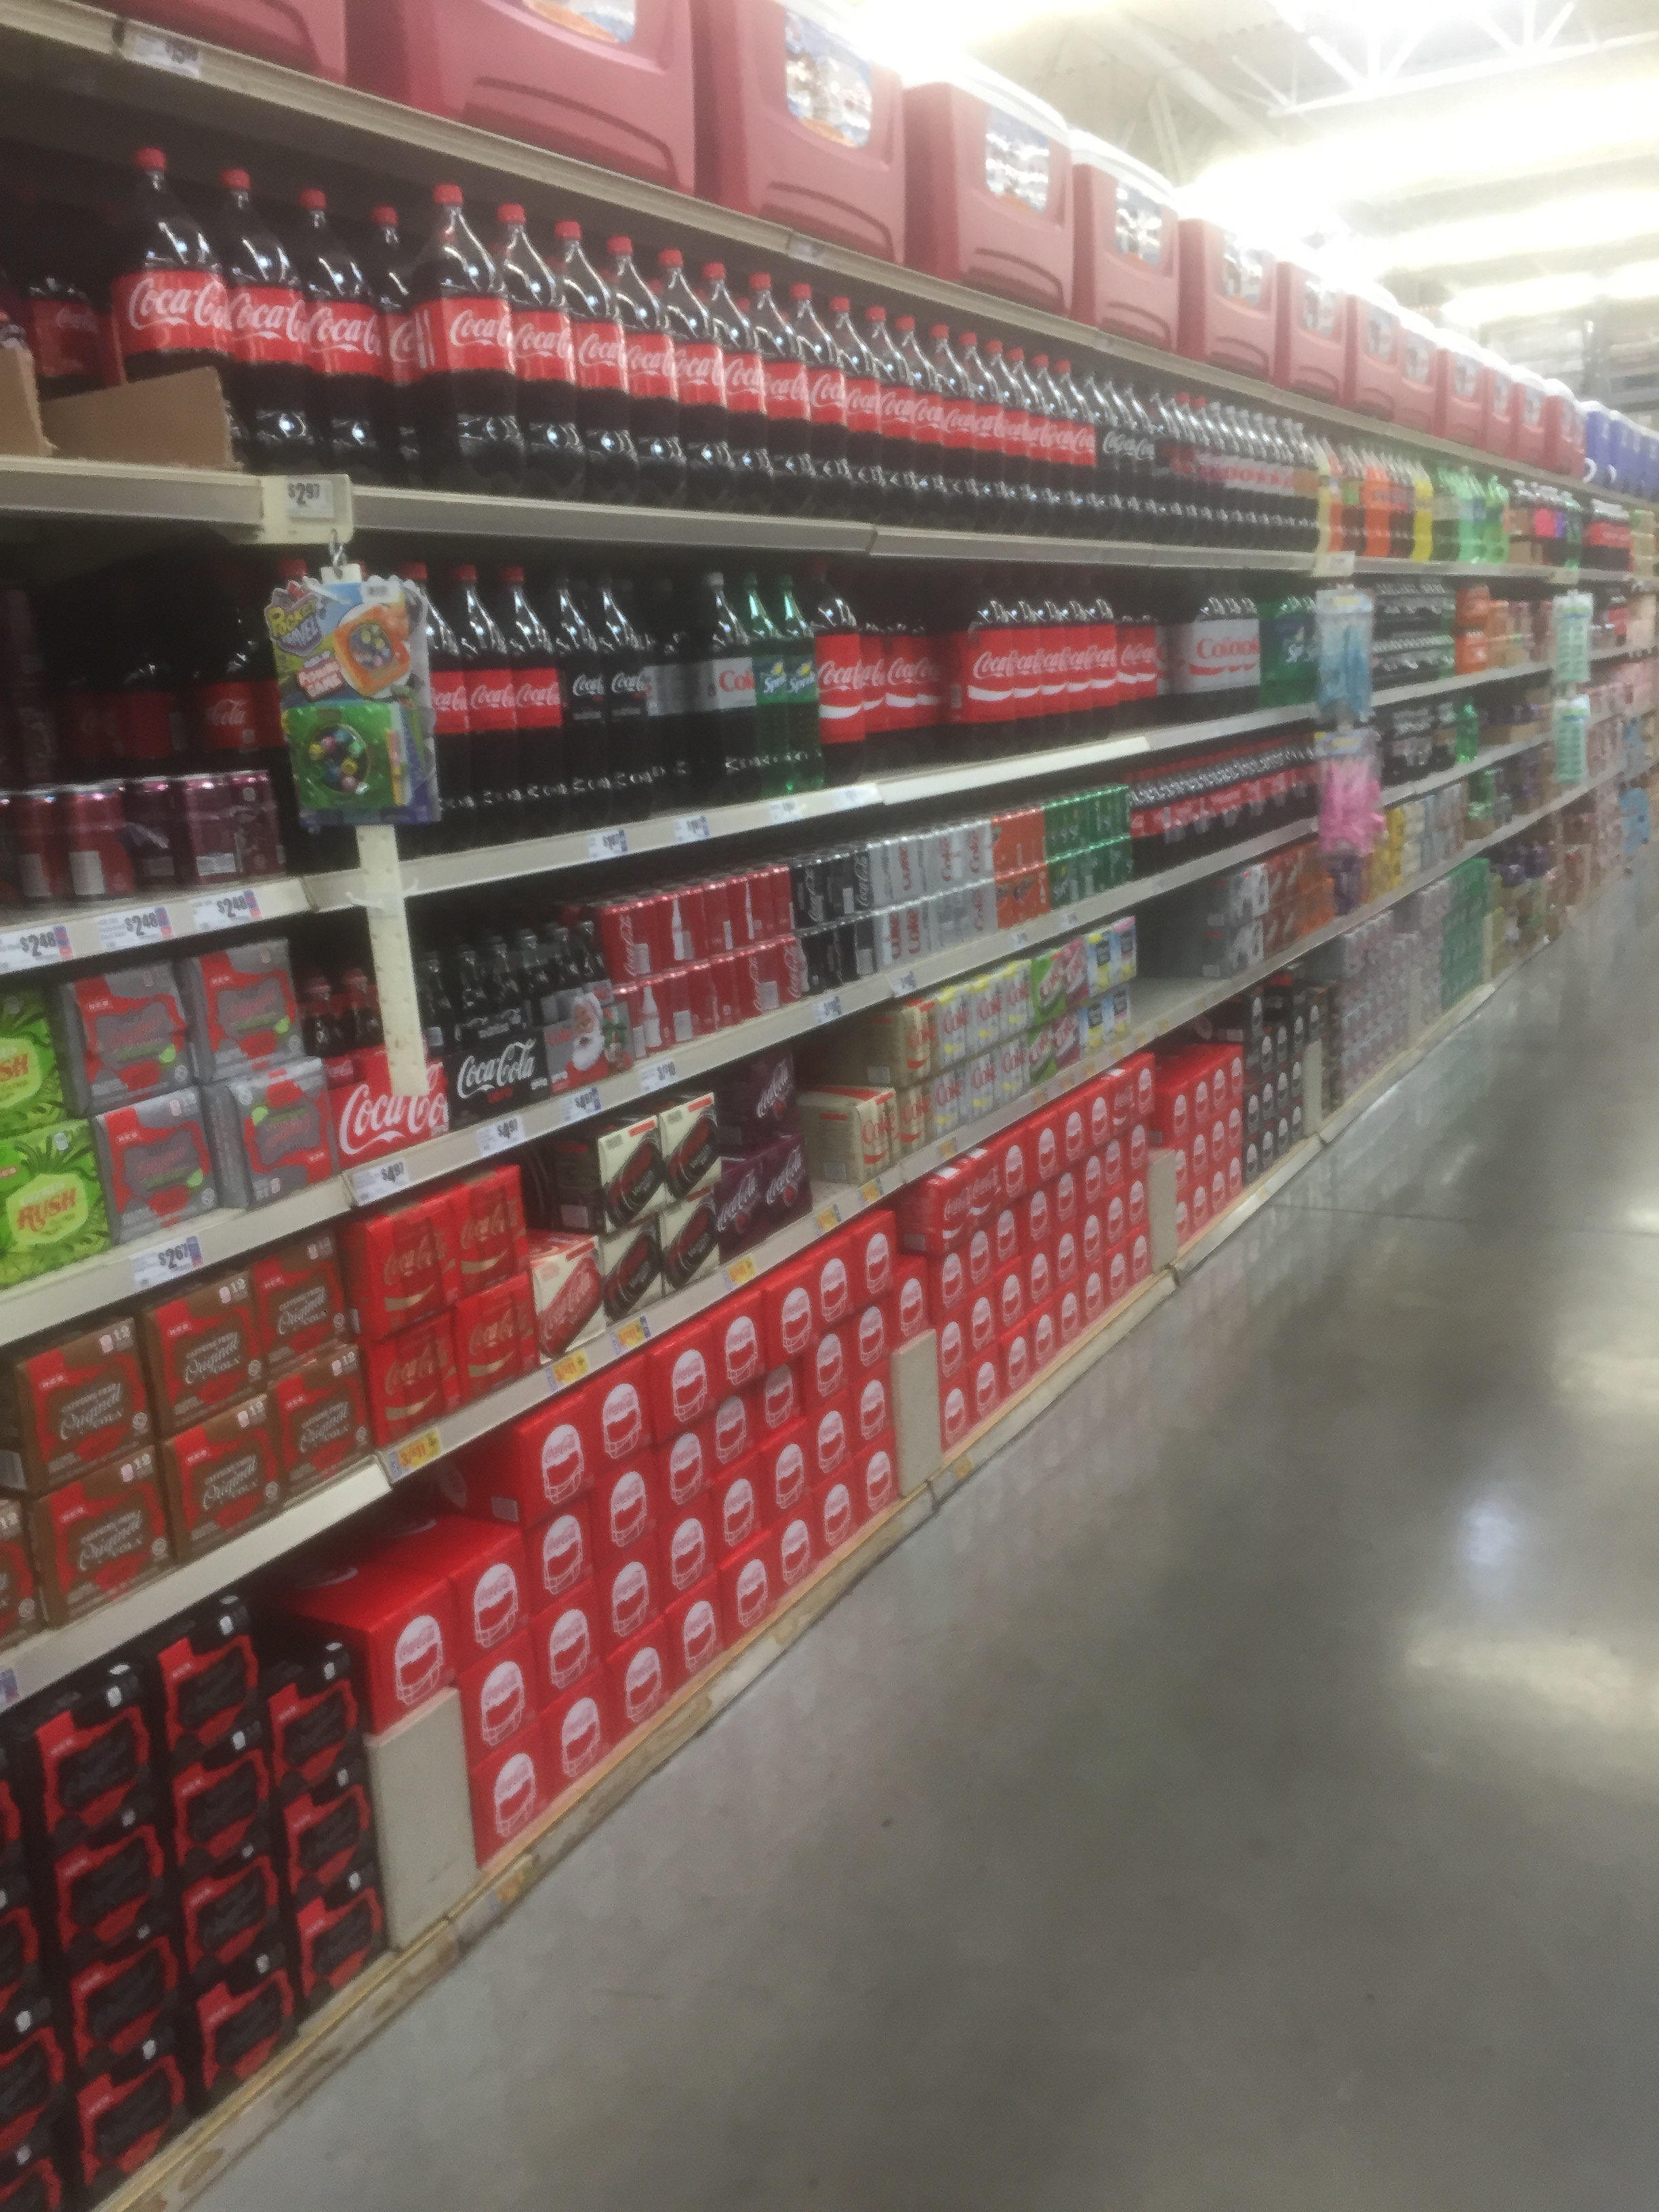Misplacement: (847, 563, 979, 782), (530, 1118, 610, 1353)
Out-of-stock: (1131, 878, 1222, 1031), (807, 1113, 856, 1216)
